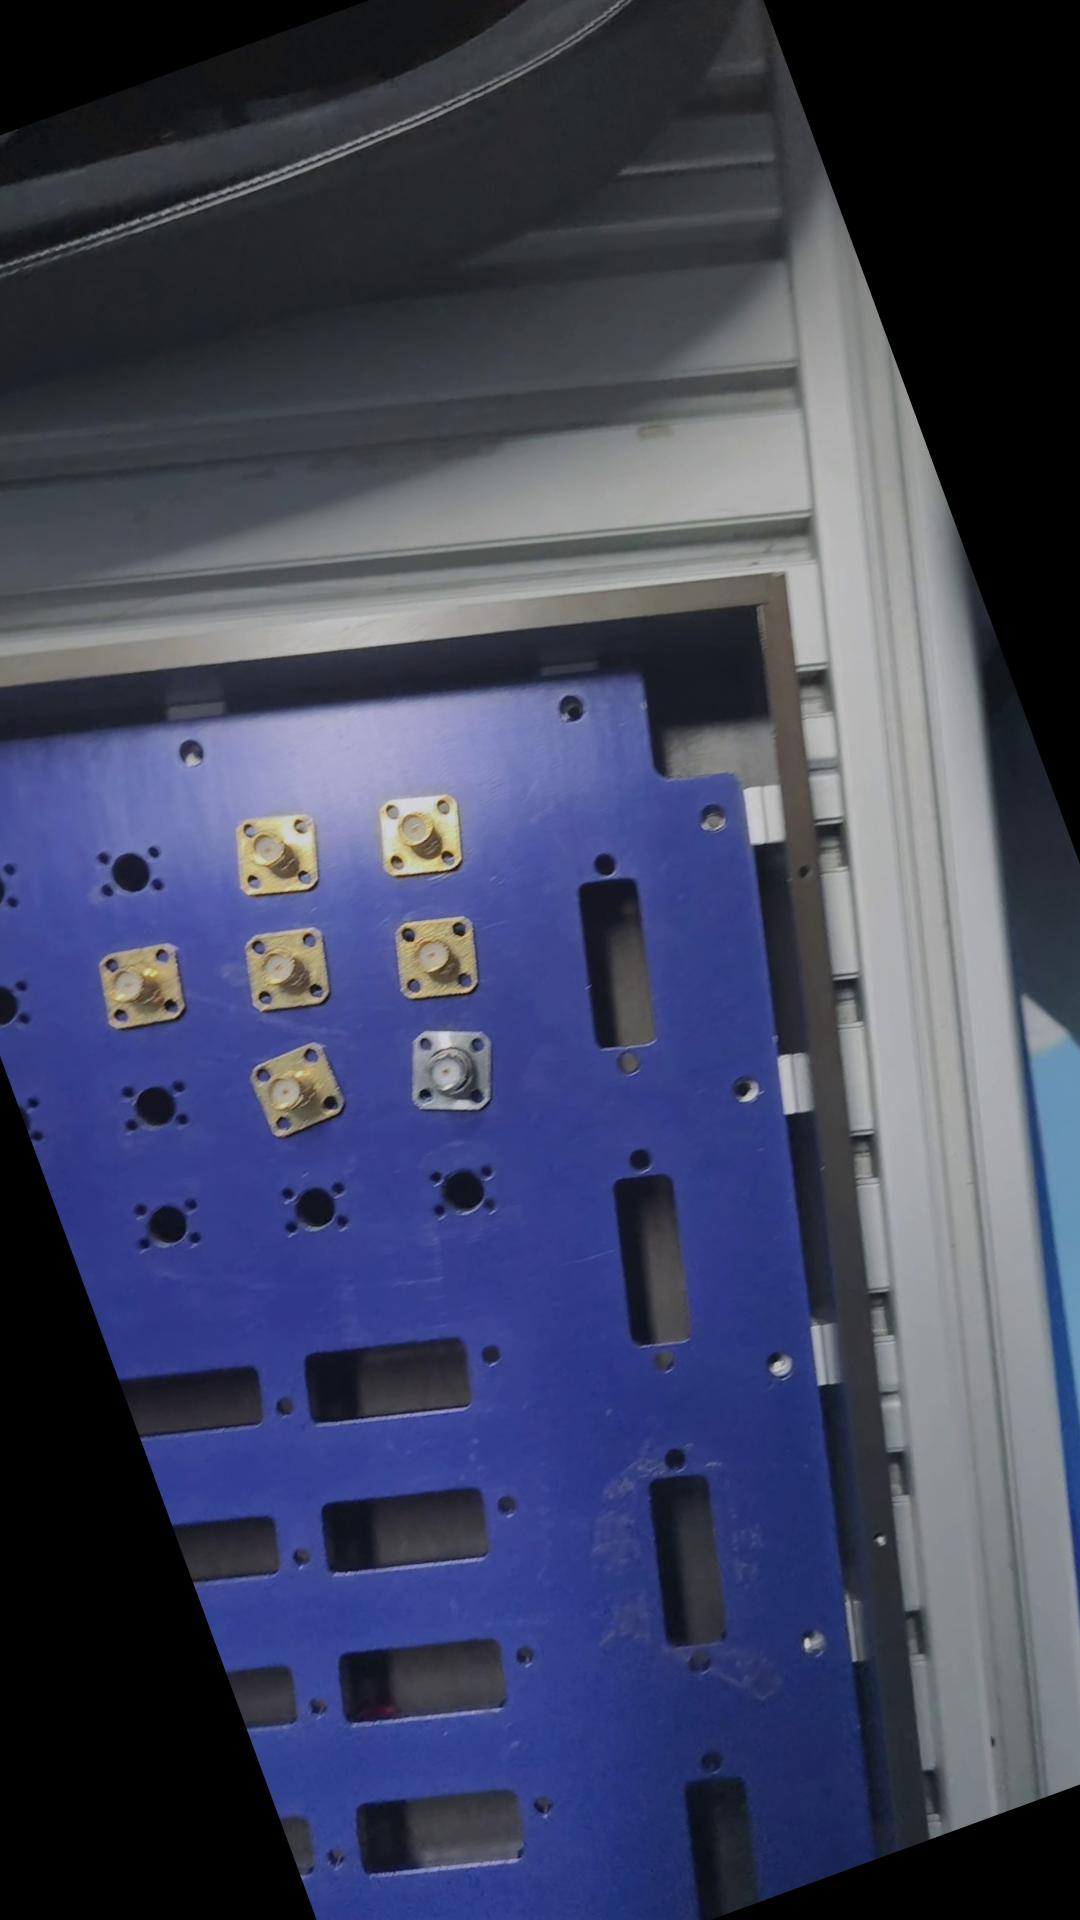SMA: (353, 777, 481, 897), (235, 1029, 355, 1153), (392, 1013, 512, 1131), (224, 913, 342, 1030), (377, 903, 496, 1017), (216, 798, 331, 913), (84, 932, 196, 1040)
